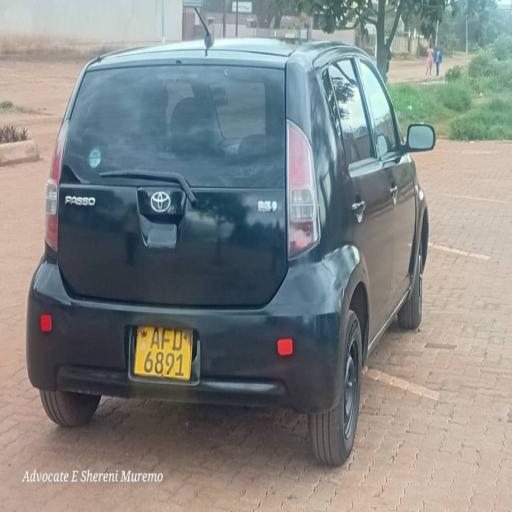number-plates: (134, 322, 188, 377)
